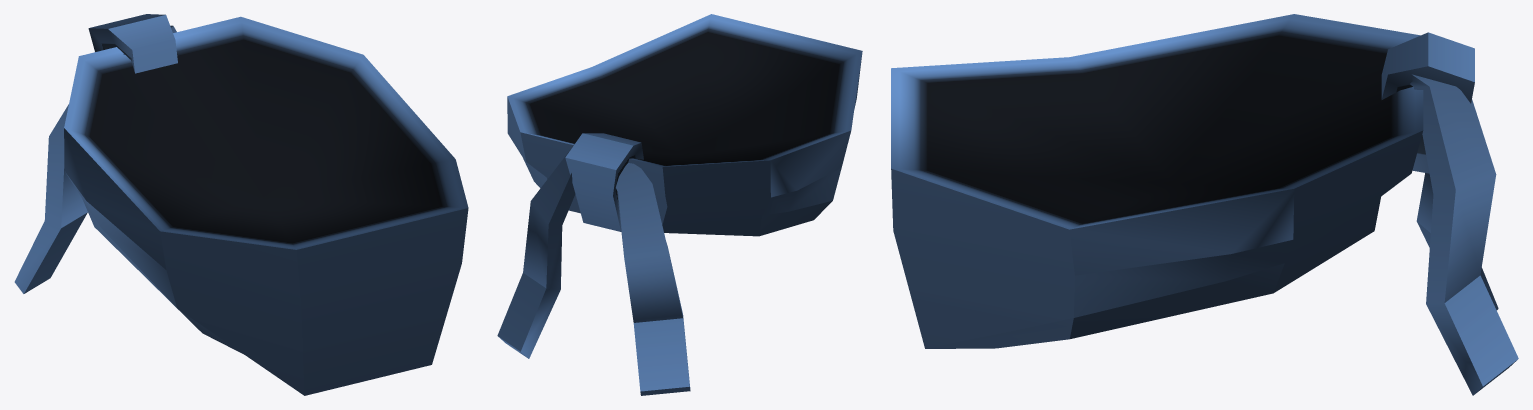
Rendered from FaceMask_M.glb.
The picture shows the model from 3 angles, left to right: view 1: azimuth 30°, elevation 25°; view 2: azimuth 150°, elevation 25°; view 3: azimuth 270°, elevation 25°; orthographic projection. The views are drawn at different scales.
Visible parts, largest first — view 1: FaceMask_M; view 2: FaceMask_M; view 3: FaceMask_M.
Part boxes in pixels (x1=…): FaceMask_M: x1=14, y1=14, x2=468, y2=395; FaceMask_M: x1=497, y1=14, x2=862, y2=395; FaceMask_M: x1=891, y1=14, x2=1518, y2=395.
Bounding box in the file's own units: 0.202 × 0.1624 × 0.2984.
1 material, 1 textured.
